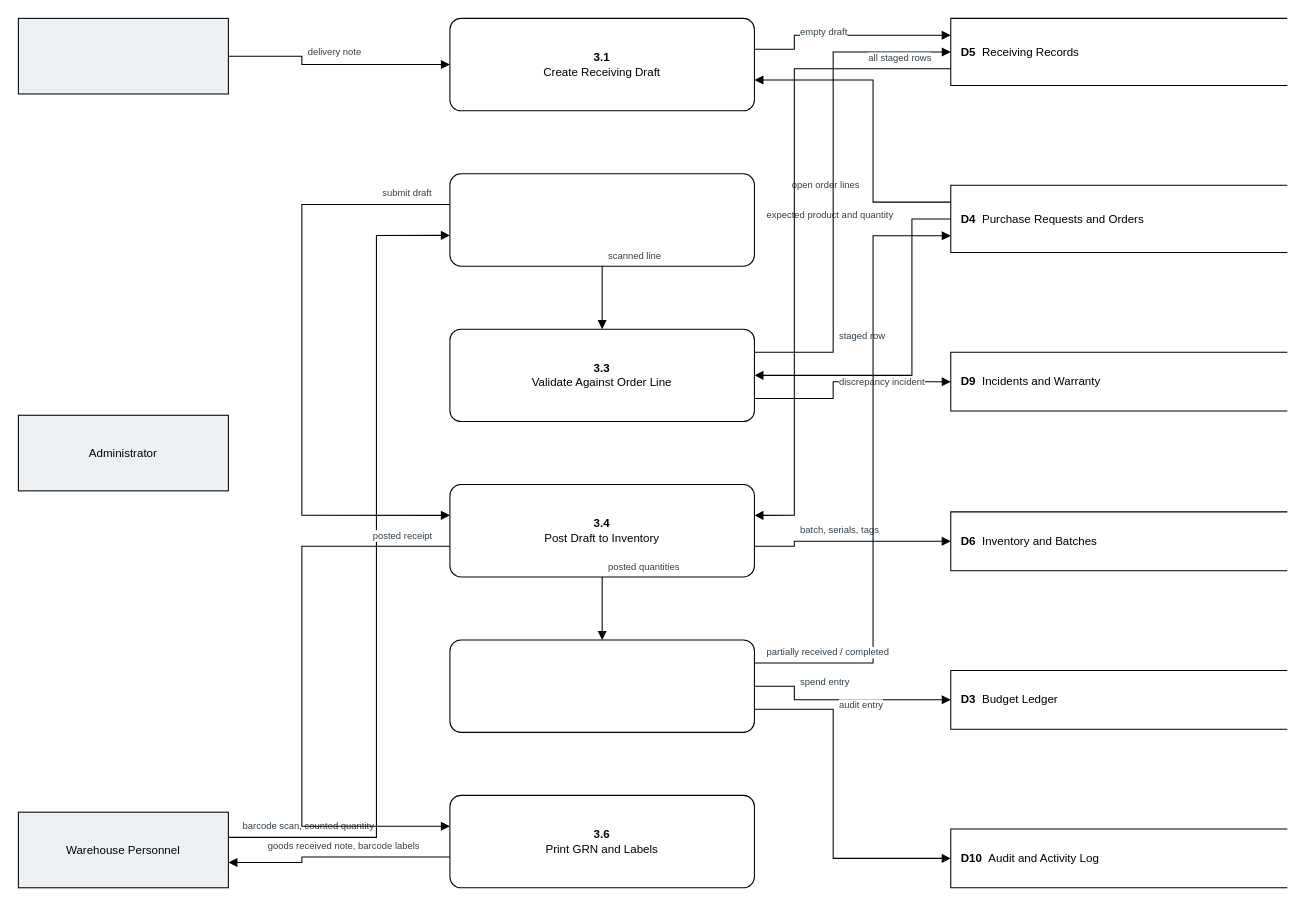
The diagram is 1305 pixels wide and 906 high, and some of its shapes have lost their labels. The shapes that lost their labels are listed below. From the top down, each one's box as (x1, y1, x2, y2) in pixels, then its label:
(17, 17, 228, 94): Supplier
(449, 173, 754, 266): 3.2 Scan or Count Delivered Items
(449, 639, 754, 732): 3.5 Update Order and Spend Budget
